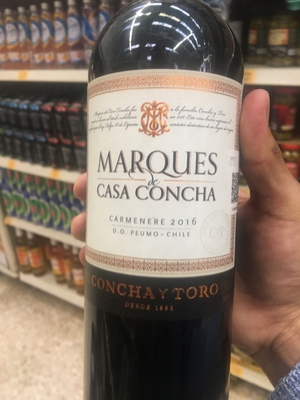marques de casa concha carmenere: (84, 22, 257, 400)
